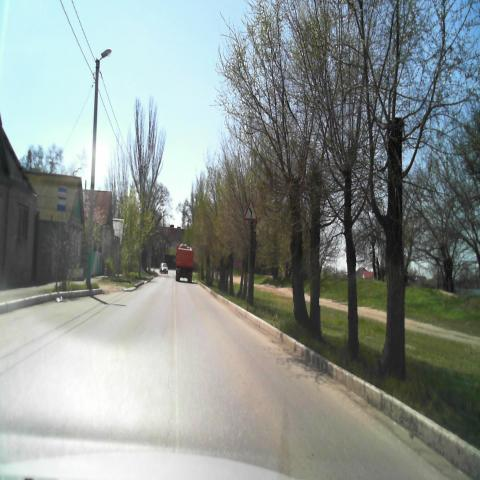1_11_1: (244, 198, 258, 220)
